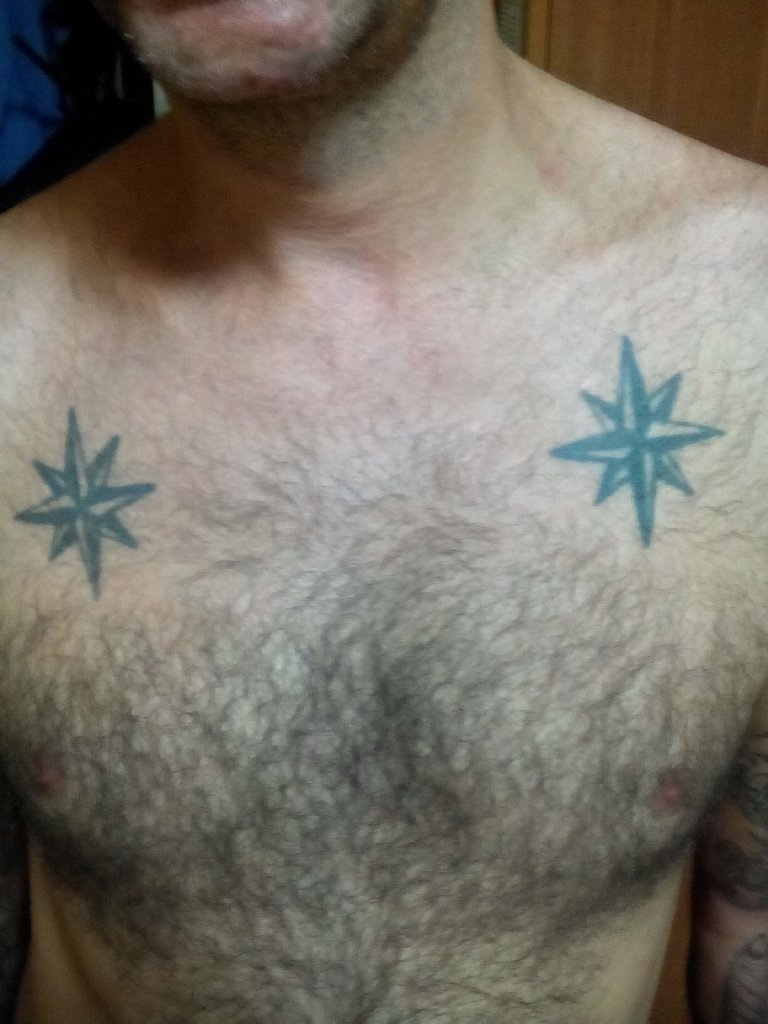tatu4_zvezda: (550, 336, 725, 550), (11, 410, 158, 604)
